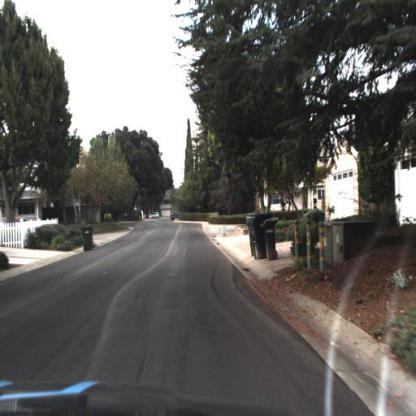car: (172, 206, 183, 222), (153, 214, 158, 219)
